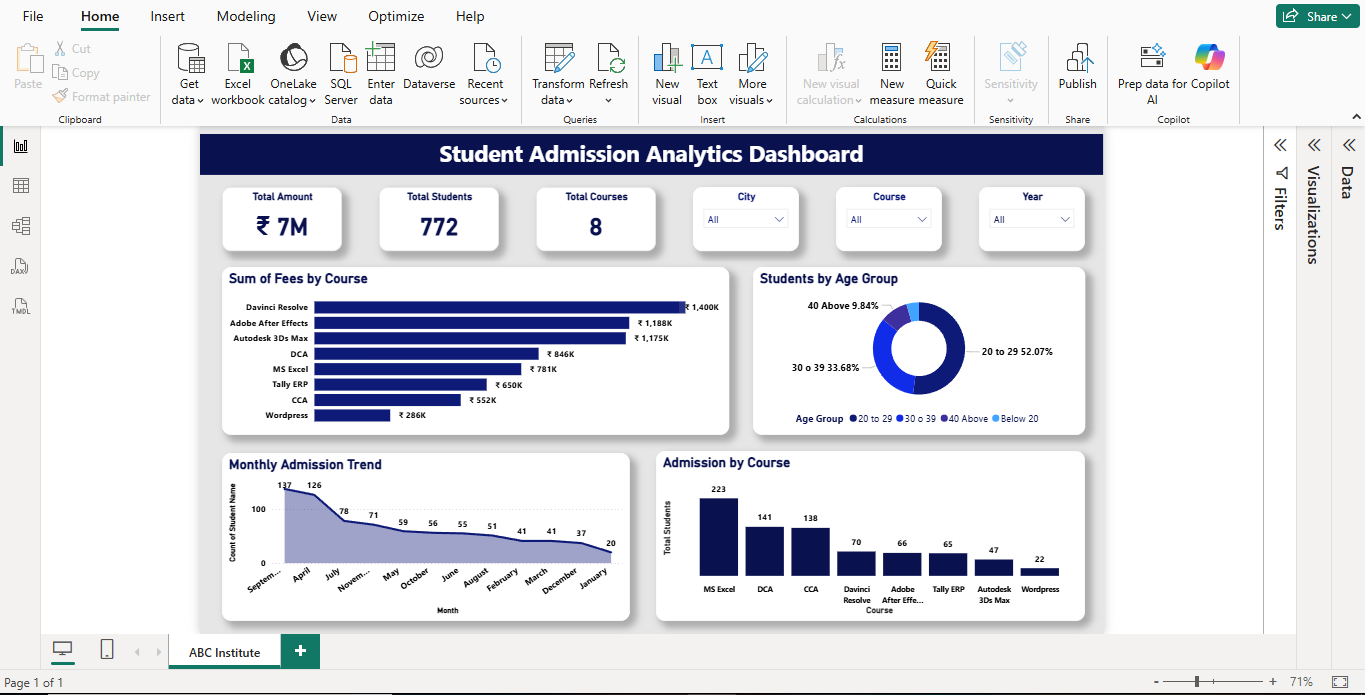

This screenshot's page, from the dashboard's own definition file:
{"tool":"powerbi","page":{"name":"ABC Institute","canvas":[1280,720],"ordinal":0},"visuals":[{"type":"clusteredColumnChart","title":"Admission by Course","fields":{"Category":["Student Course Details.Course"],"Y":["CountNonNull(Student Course Details.Student Name)"]},"box":[646.3,460.6,608,240.9],"z":0},{"type":"donutChart","title":"Students by Age Group","fields":{"Y":["CountNonNull(Student Course Details.Course)"],"Category":["Student Personal Details.Age Group"]},"box":[783.8,199.8,470.6,238.1],"z":1000},{"type":"clusteredBarChart","fields":{"Category":["Student Course Details.Course"],"Y":["Sum(Student Course Details.Fees)"]},"box":[31.2,199.8,718.6,238.1],"z":2000},{"type":"textbox","box":[0,11.3,1279.8,58.1],"z":3000},{"type":"card","title":"Total Amount","fields":{"Values":["Sum(Student Course Details.Fees)"]},"box":[31.2,86.5,170.1,90.7],"z":4000},{"type":"card","title":"Total Students","fields":{"Values":["Count(Student Course Details.Student Name)"]},"box":[253.7,86.5,170.1,90.7],"z":5000},{"type":"card","title":"Total Courses","fields":{"Values":["Count(Student Course Details.Course)"]},"box":[476.2,86.5,170.1,90.7],"z":6000},{"type":"slicer","title":"Year","fields":{"Values":["Student Course Details.Year"]},"box":[1104.1,86.5,150.2,90.7],"z":7000},{"type":"slicer","title":"City","fields":{"Values":["Student Personal Details.City"]},"box":[698.7,86.5,150.2,90.7],"z":8000},{"type":"slicer","title":"Course","fields":{"Values":["Student Course Details.Course"]},"box":[901.4,86.5,150.2,90.7],"z":9000},{"type":"lineChart","title":"Monthly Admission Trend","fields":{"Category":["Student Course Details.Month"],"Y":["CountNonNull(Student Course Details.Student Name)"]},"box":[31.2,463.5,578.3,238.1],"z":10000}]}

Visuals, with their boxes on the page's 1280x720 design canvas (x1, y1, x2, y2). These are canvas units, not pixel positions in the 1365x695 screenshot, which may show the page scaled, cropped or inside an application window:
"Admission by Course" clusteredColumnChart: {"x1": 646, "y1": 461, "x2": 1254, "y2": 702}
"Students by Age Group" donutChart: {"x1": 784, "y1": 200, "x2": 1254, "y2": 438}
clusteredBarChart - Student Course Details.Course x Sum(Student Course Details.Fees): {"x1": 31, "y1": 200, "x2": 750, "y2": 438}
textbox: {"x1": 0, "y1": 11, "x2": 1280, "y2": 69}
"Total Amount" card: {"x1": 31, "y1": 86, "x2": 201, "y2": 177}
"Total Students" card: {"x1": 254, "y1": 86, "x2": 424, "y2": 177}
"Total Courses" card: {"x1": 476, "y1": 86, "x2": 646, "y2": 177}
"Year" slicer: {"x1": 1104, "y1": 86, "x2": 1254, "y2": 177}
"City" slicer: {"x1": 699, "y1": 86, "x2": 849, "y2": 177}
"Course" slicer: {"x1": 901, "y1": 86, "x2": 1052, "y2": 177}
"Monthly Admission Trend" lineChart: {"x1": 31, "y1": 464, "x2": 610, "y2": 702}
